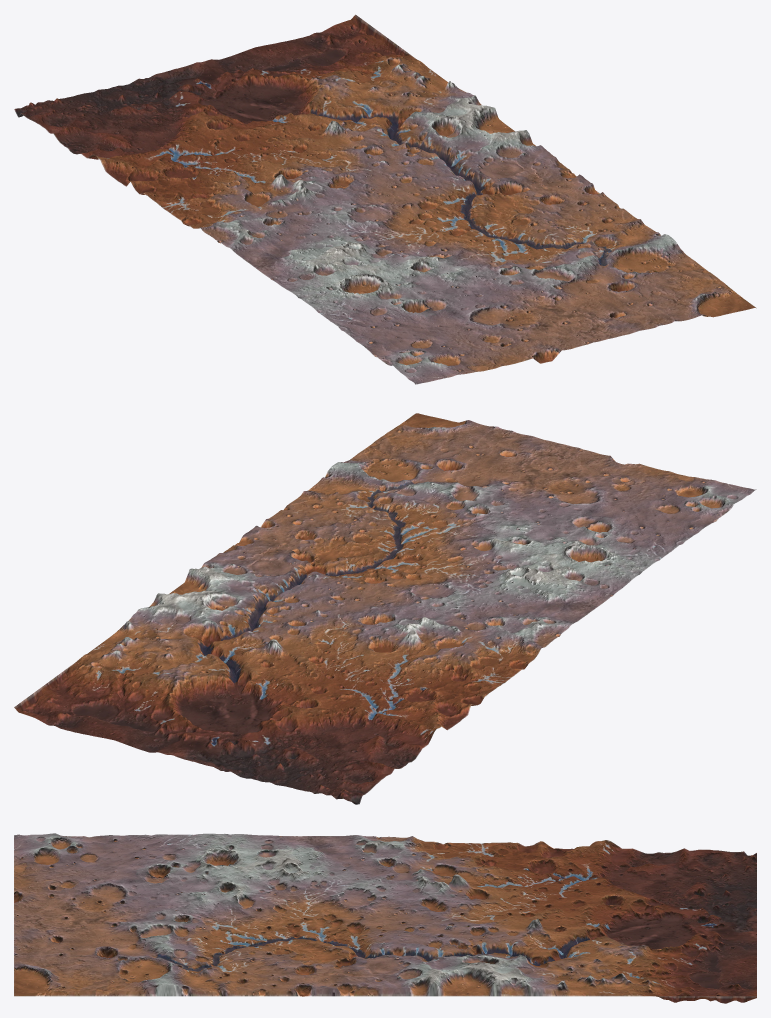
The model's file is zone2_gusev.glb.
3 views of the same model, one above another, from view 1: azimuth 30°, elevation 25°; view 2: azimuth 150°, elevation 25°; view 3: azimuth 270°, elevation 25° (orthographic). The views are drawn at different scales.
Parts seen in each view (by area): view 1: Object_5; view 2: Object_5; view 3: Object_5.
Part boxes in pixels (box(x1,y1,x2,y2)): Object_5: box(14, 14, 756, 384); Object_5: box(14, 413, 756, 804); Object_5: box(14, 833, 756, 1003).
Bounding box in the file's own units: 99.65 × 9.56 × 203.
1 material, 1 textured.
